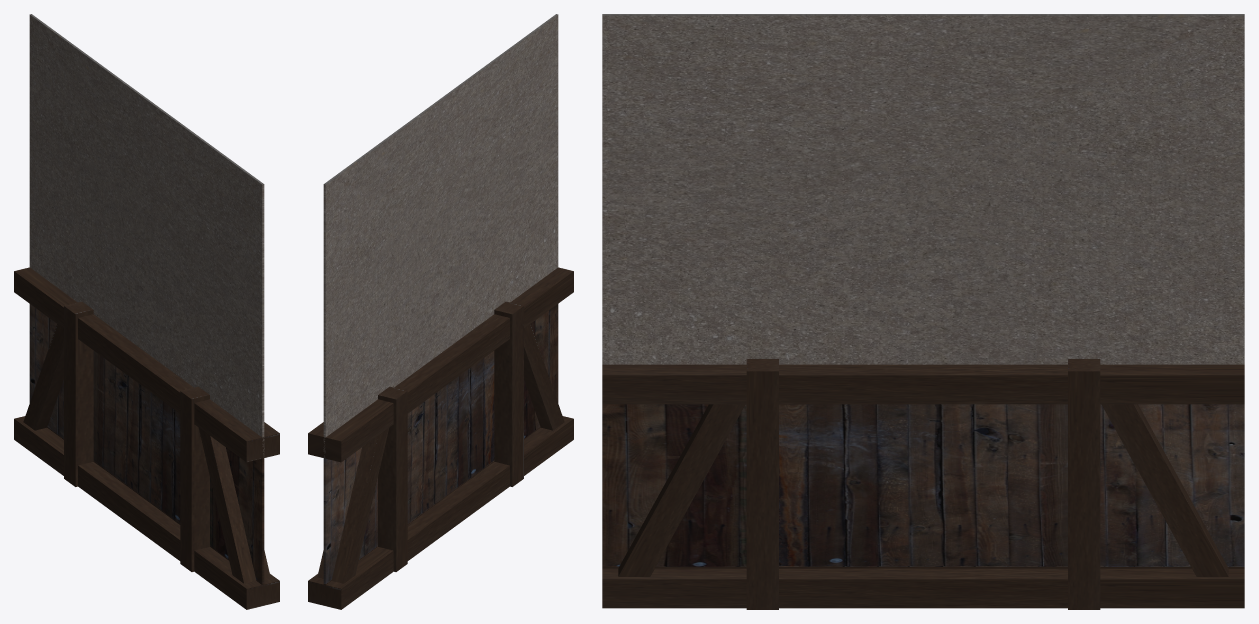
The model's file is OutdoorArchitecture_BasicWall04_NoEdges_BShortt.fbx.
3 views of the same model, side by side, from view 1: azimuth 30°, elevation 25°; view 2: azimuth 150°, elevation 25°; view 3: azimuth 270°, elevation 25° (orthographic). The views are drawn at different scales.
Parts seen in each view (by area): view 1: OutdoorArchitecture_BasicWall04_NoEdges_BShortt; view 2: OutdoorArchitecture_BasicWall04_NoEdges_BShortt; view 3: OutdoorArchitecture_BasicWall04_NoEdges_BShortt.
Boxes of the visible parts, box(x1,y1,x2,y2) form: OutdoorArchitecture_BasicWall04_NoEdges_BShortt: box(14, 14, 279, 609); OutdoorArchitecture_BasicWall04_NoEdges_BShortt: box(308, 14, 573, 609); OutdoorArchitecture_BasicWall04_NoEdges_BShortt: box(602, 14, 1244, 609).
Bounding box in the file's own units: 28.5 × 300 × 300.
